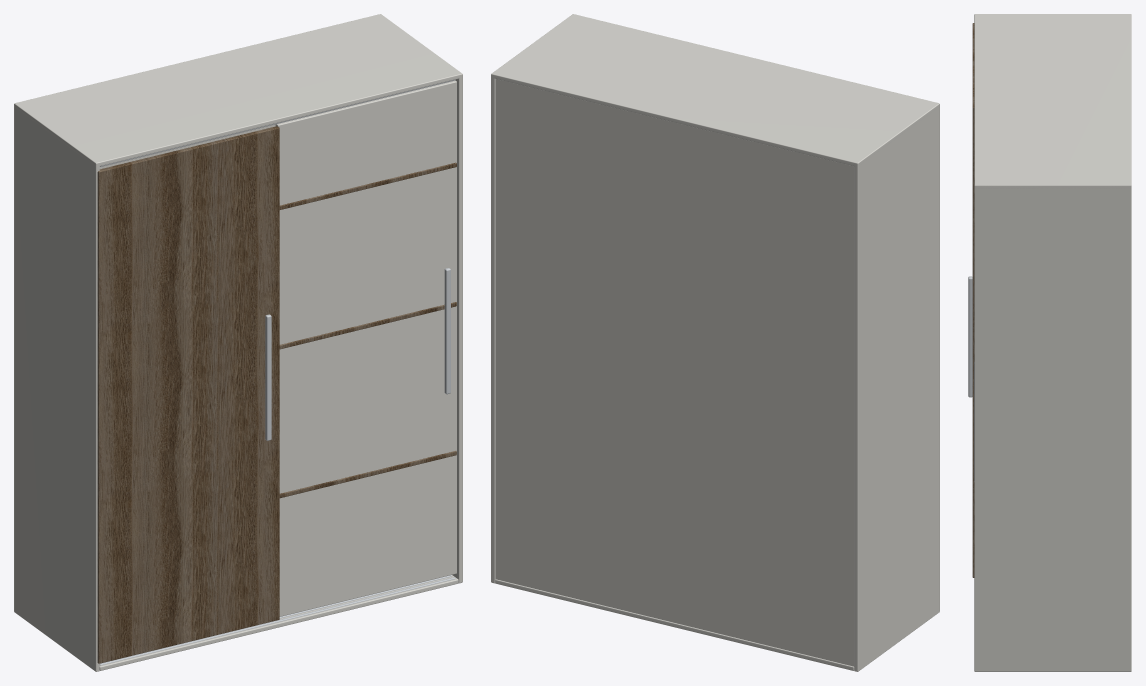
The model's file is detail-sliding.glb.
3 renders of one model, left to right at view 1: azimuth 30°, elevation 25°; view 2: azimuth 150°, elevation 25°; view 3: azimuth 270°, elevation 25°, orthographic. The views are drawn at different scales.
Visible parts, largest first — view 1: 推拉独立门扇, 推拉独立门扇.001, 左侧板, 顶板, 右侧板, 底板, 推拉门导轨, 可调层板, 可调层板.002, 可调层板.001, 嵌入式竖拉手, 嵌入式竖拉手.001; view 2: 嵌入式背板, 左侧板, 顶板, 右侧板, 底板; view 3: 右侧板, 顶板, 推拉独立门扇, 嵌入式竖拉手.
Boxes of the visible parts, bbox=[...] form: 推拉独立门扇: bbox=[97, 126, 279, 663]; 推拉独立门扇.001: bbox=[275, 80, 456, 616]; 左侧板: bbox=[14, 105, 99, 671]; 顶板: bbox=[14, 14, 462, 166]; 右侧板: bbox=[452, 75, 462, 583]; 底板: bbox=[99, 575, 458, 670]; 推拉门导轨: bbox=[99, 577, 455, 665]; 可调层板: bbox=[279, 451, 456, 498]; 可调层板.002: bbox=[279, 162, 456, 209]; 可调层板.001: bbox=[279, 302, 456, 349]; 嵌入式竖拉手: bbox=[265, 314, 271, 440]; 嵌入式竖拉手.001: bbox=[444, 268, 450, 394]; 嵌入式背板: bbox=[495, 79, 854, 666]; 左侧板: bbox=[854, 105, 939, 671]; 顶板: bbox=[491, 14, 939, 166]; 右侧板: bbox=[491, 75, 495, 583]; 底板: bbox=[495, 579, 854, 670]; 右侧板: bbox=[974, 185, 1131, 671]; 顶板: bbox=[974, 14, 1131, 188]; 推拉独立门扇: bbox=[972, 23, 974, 577]; 嵌入式竖拉手: bbox=[968, 276, 972, 397].
Bounding box in the file's own units: 1.6 × 2.12 × 0.644.
3 materials, 1 textured.
